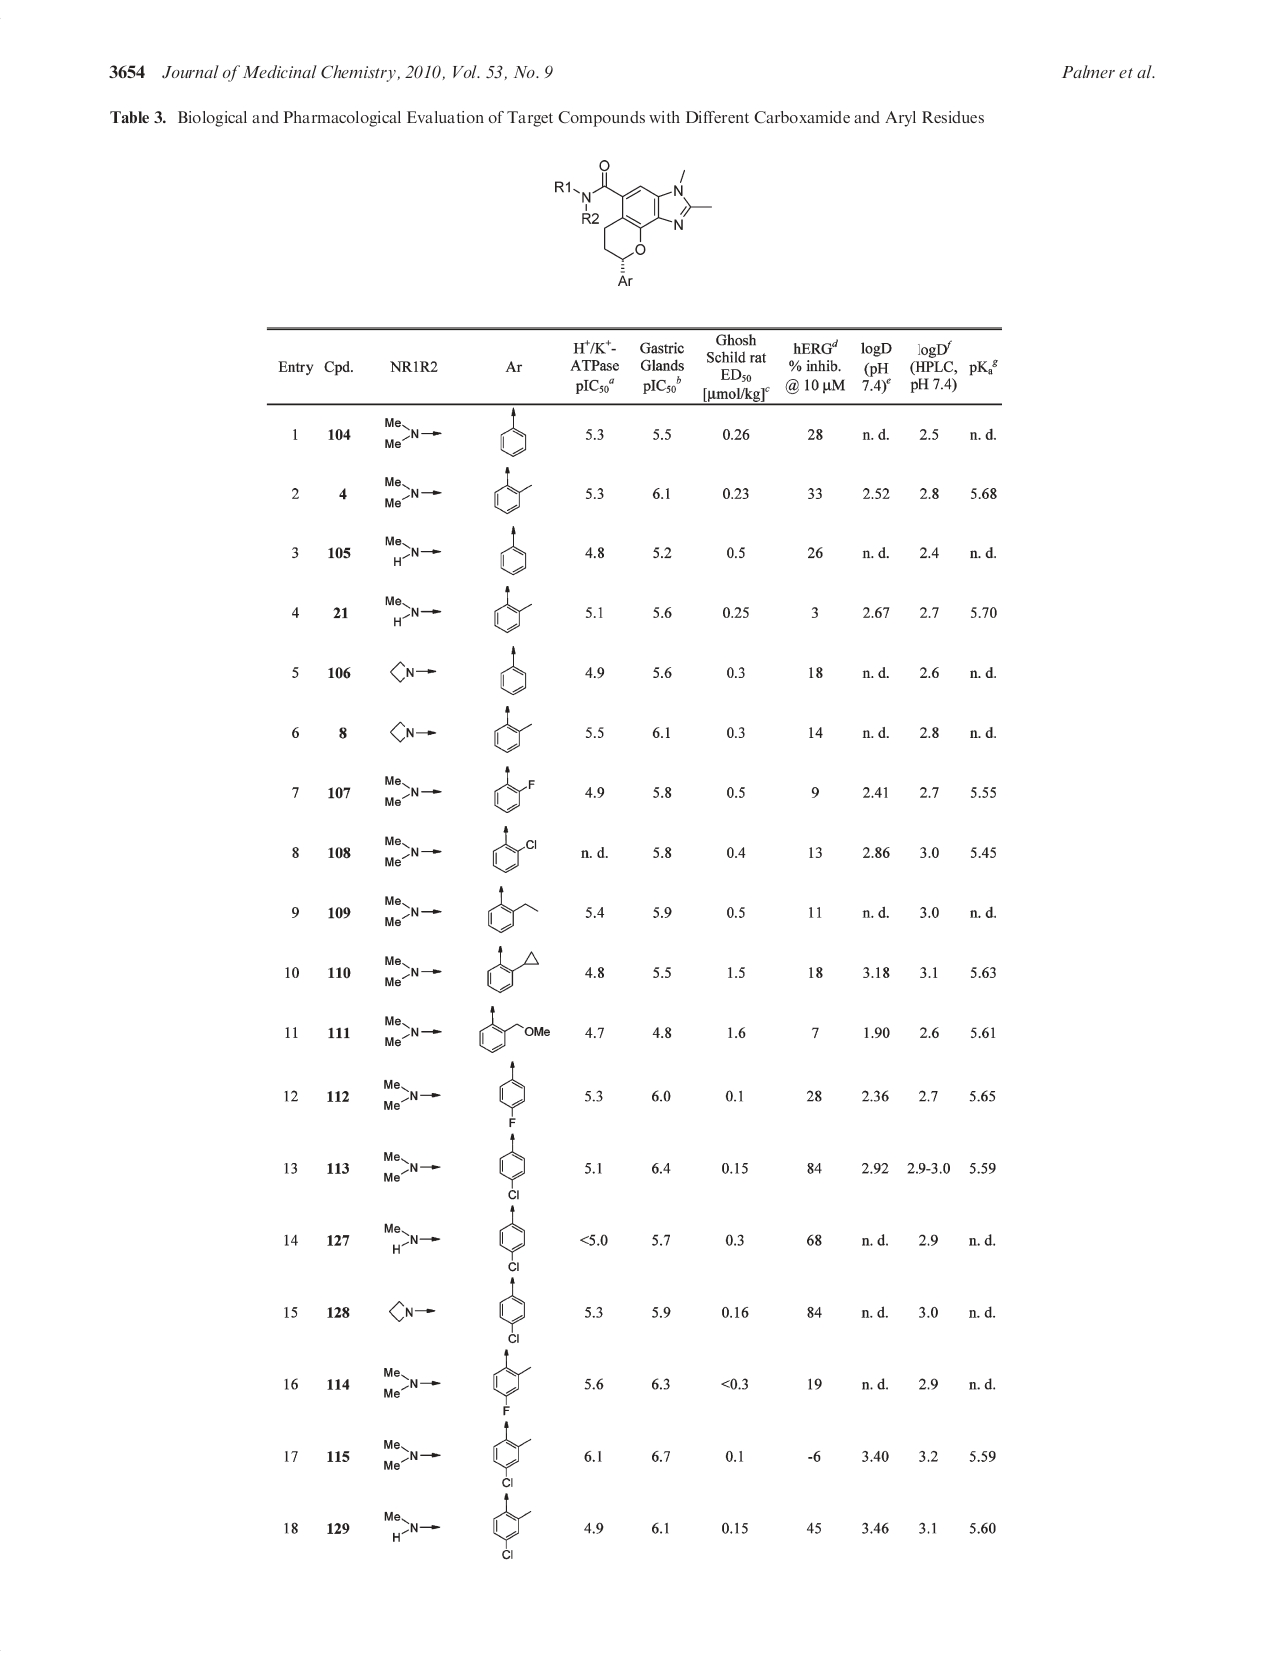exist_molecular: (553, 161, 715, 297), (475, 1003, 555, 1055), (481, 946, 547, 995), (491, 1422, 533, 1493), (375, 1144, 445, 1186), (483, 883, 543, 932), (489, 1348, 532, 1418), (376, 1431, 443, 1475), (379, 411, 447, 453), (379, 476, 453, 515), (493, 1274, 532, 1348), (491, 1493, 532, 1563), (499, 1055, 535, 1132), (376, 1218, 447, 1255), (499, 1132, 535, 1204), (376, 1077, 445, 1114), (489, 825, 539, 876), (379, 951, 444, 989), (491, 763, 539, 815), (378, 532, 444, 569), (378, 1505, 444, 1543), (382, 831, 445, 870), (382, 892, 445, 931), (491, 406, 537, 457), (378, 1013, 440, 1052), (496, 1205, 531, 1274), (489, 465, 533, 519), (370, 775, 438, 809), (489, 704, 533, 754), (375, 1367, 440, 1400), (491, 584, 535, 633), (383, 593, 449, 624), (390, 653, 442, 690), (497, 641, 531, 697), (496, 525, 532, 575), (383, 717, 442, 746), (386, 1294, 440, 1325)
